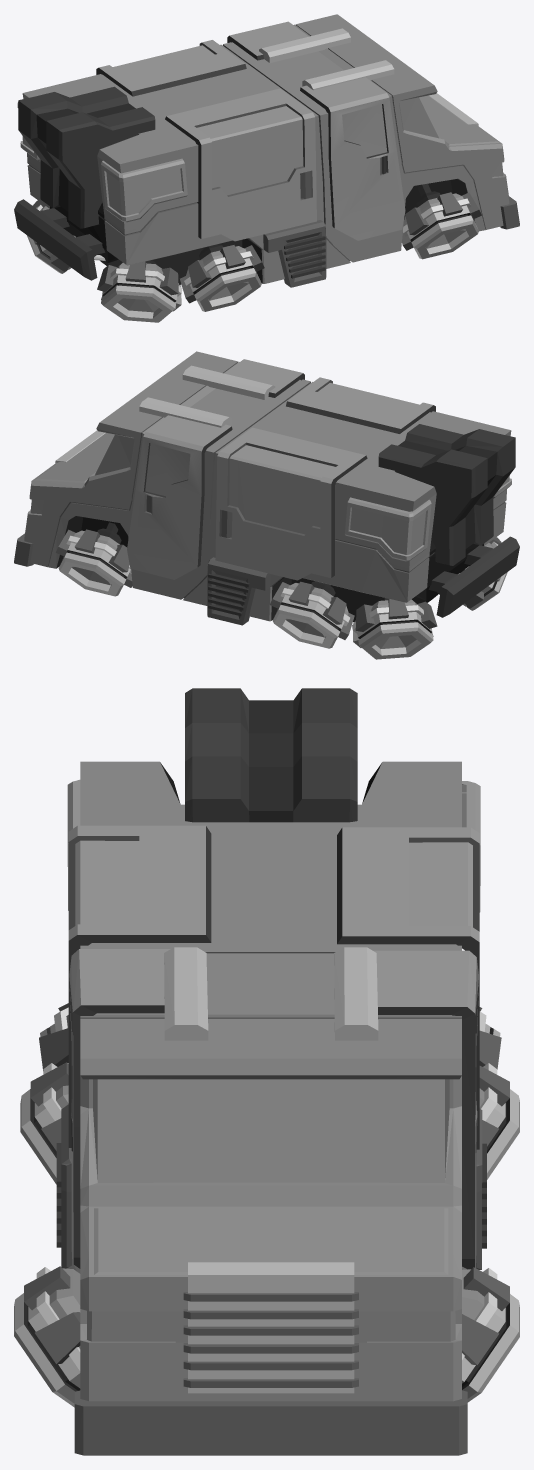
File: van_A.FBX
The picture shows the model from 3 angles, top to bottom: view 1: azimuth 30°, elevation 25°; view 2: azimuth 150°, elevation 25°; view 3: azimuth 270°, elevation 25°; orthographic projection. The views are drawn at different scales.
Visible parts, largest first — view 1: van_A, van_A_glass, van_A_glow; view 2: van_A, van_A_glass, van_A_glow; view 3: van_A, van_A_glass.
Boxes of the visible parts, left/top/right/bottom form: van_A: left=14, top=14, right=519, bottom=322; van_A_glass: left=22, top=45, right=438, bottom=215; van_A_glow: left=118, top=229, right=466, bottom=312; van_A: left=14, top=351, right=519, bottom=659; van_A_glass: left=95, top=383, right=509, bottom=554; van_A_glow: left=71, top=566, right=416, bottom=648; van_A: left=14, top=688, right=519, bottom=1455; van_A_glass: left=75, top=793, right=472, bottom=1182.
Size of the model in its own units: 338 by 145 by 174.
